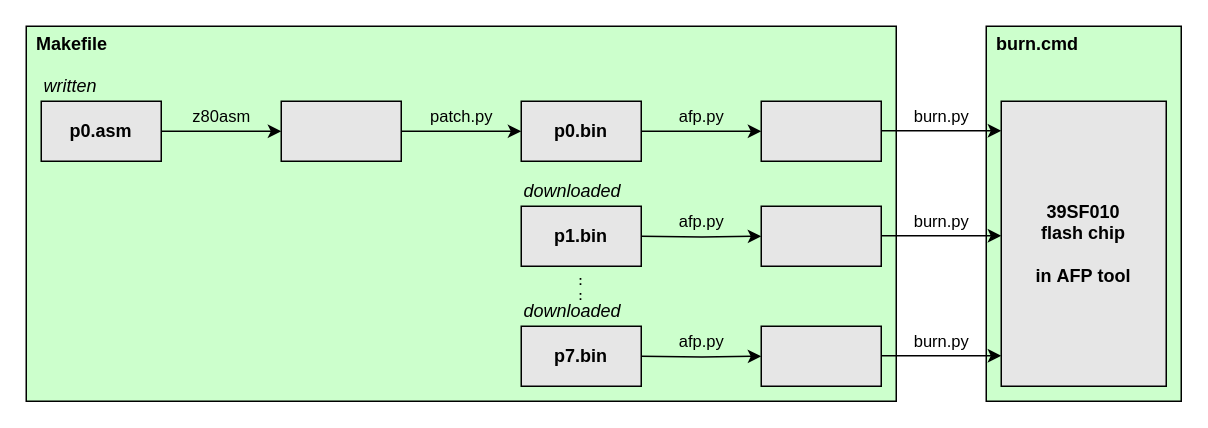
This 1208x428 diagram has some shape labels left out. The shapes that lost their labels are listed below. From the top down, each one's centre as x and y in pixels, then its label:
(340,130): p0.ubin
(820,130): p0.afp
(820,235): p1.afp
(820,355): p7.afp
